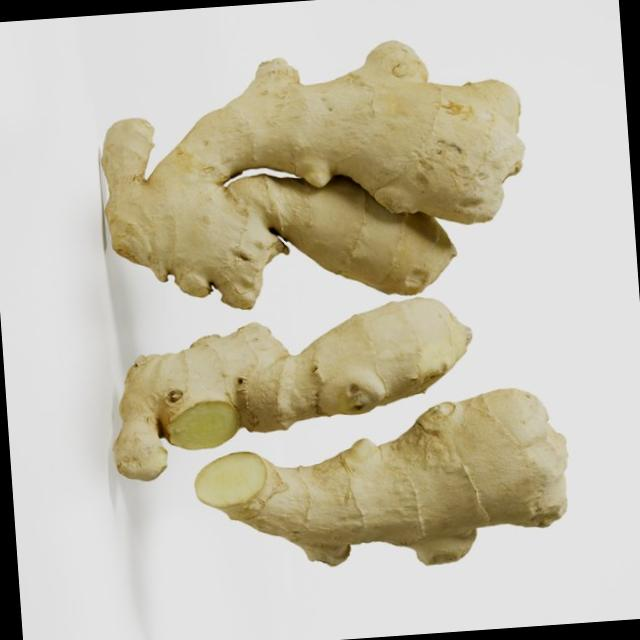ginger-root: (50, 20, 537, 340)
